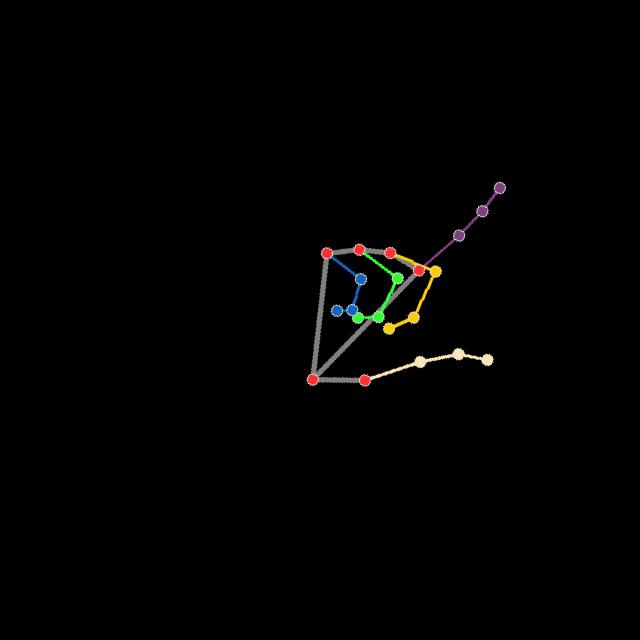gun: (305, 175, 509, 389)
